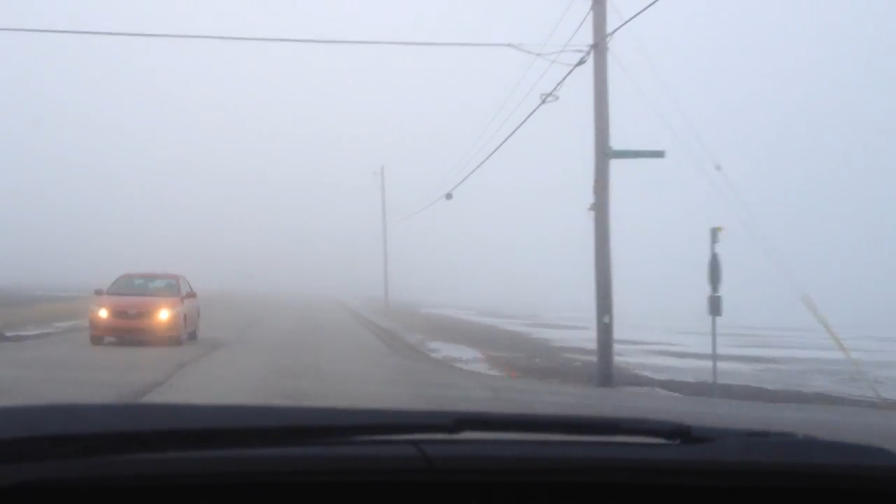car: (88, 270, 201, 346)
